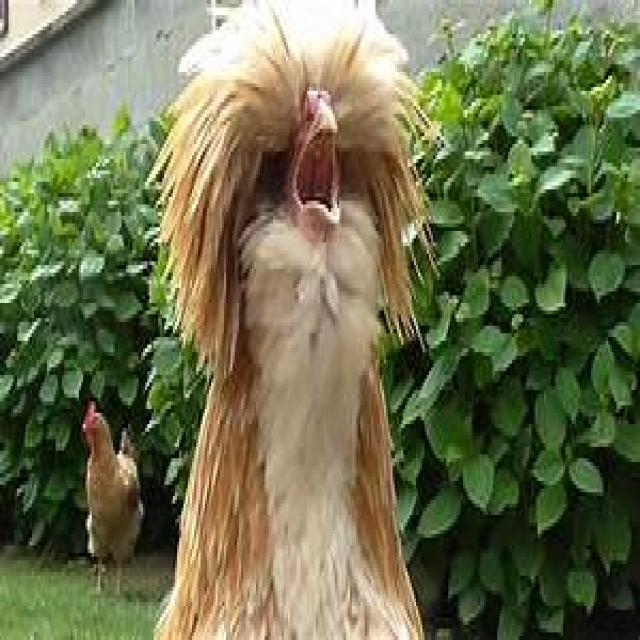animal: (150, 0, 429, 640)
